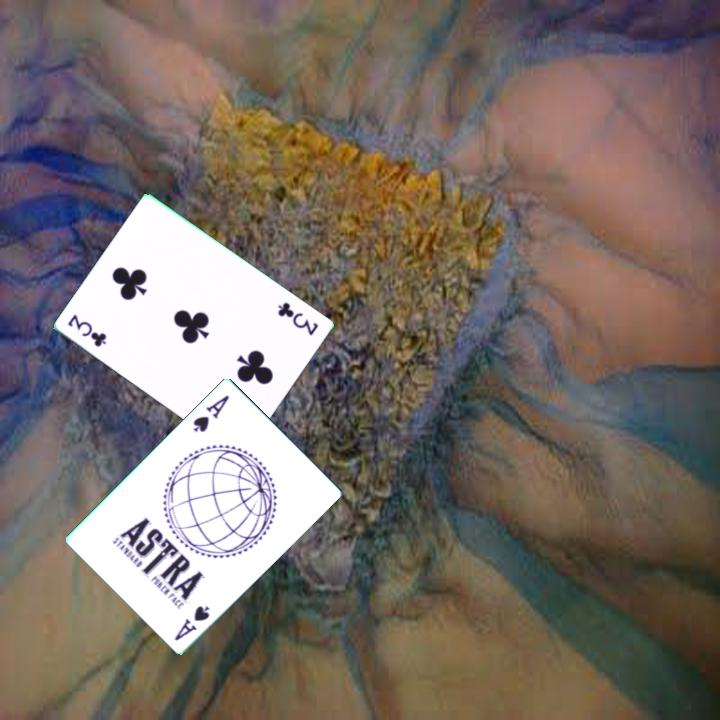3c: (274, 298, 322, 338), (64, 311, 110, 350)
As: (190, 391, 232, 435), (171, 602, 213, 643)
